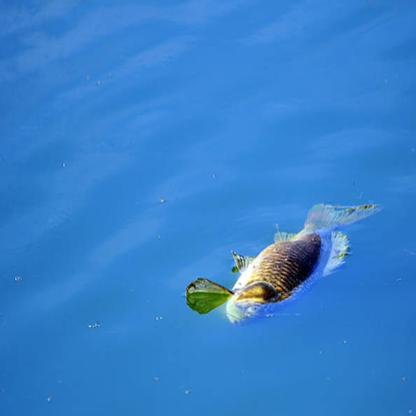deceased fish: (225, 202, 382, 322)
